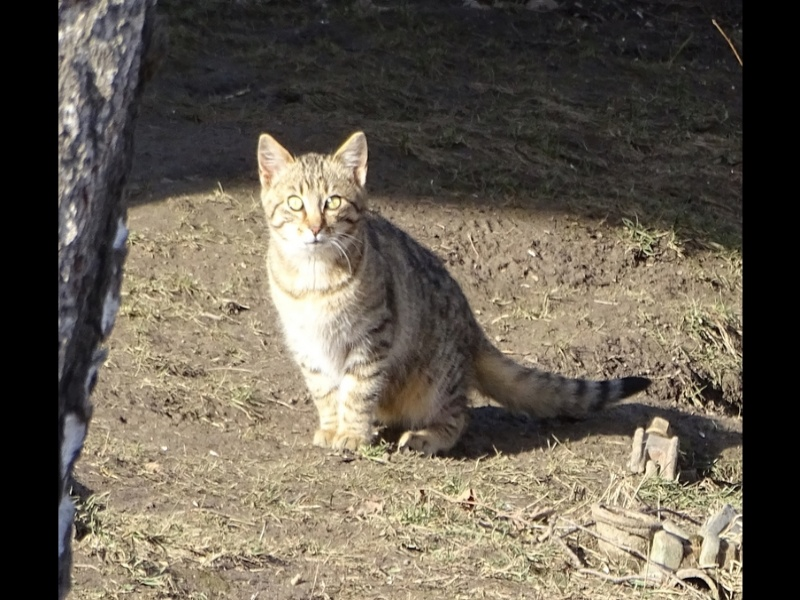cat: (252, 128, 661, 455)
